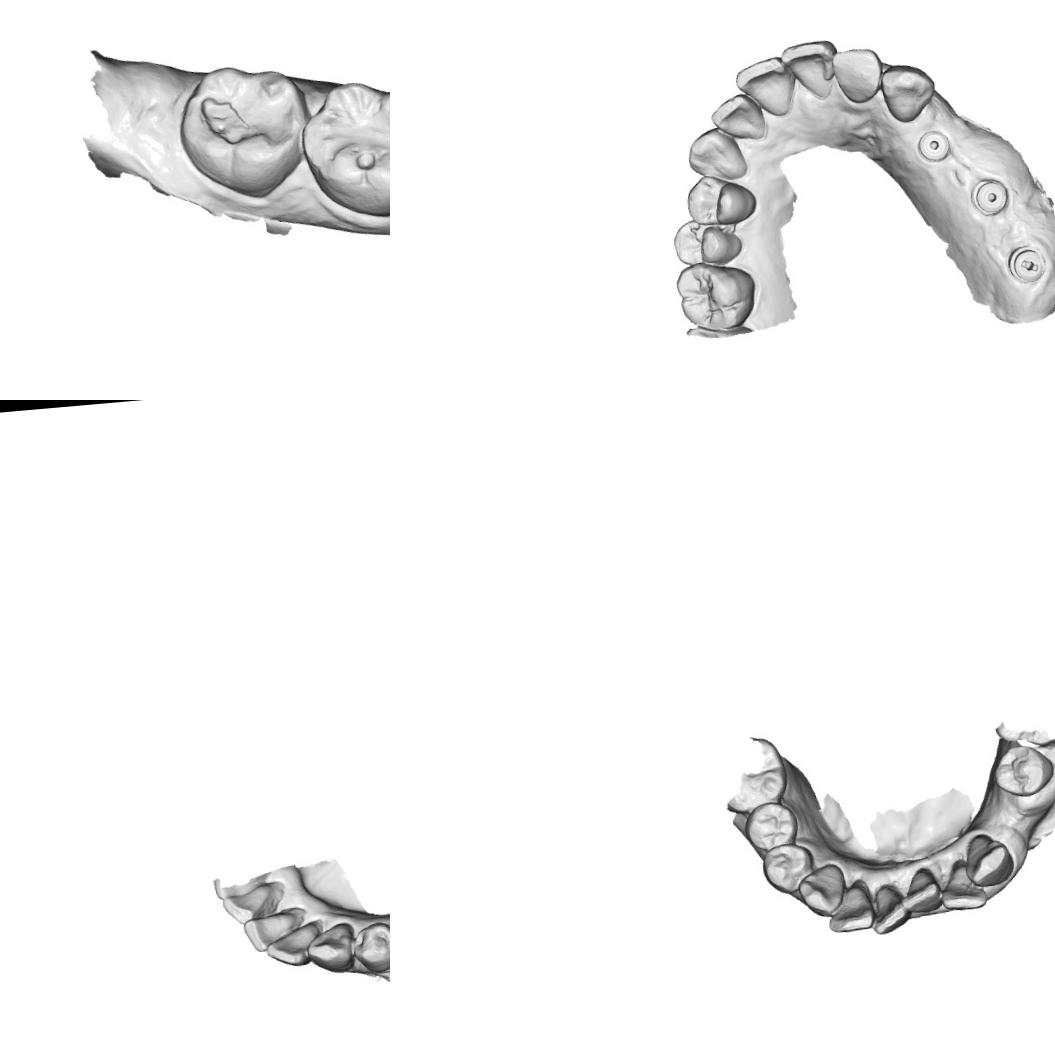canine: (684, 123, 749, 184), (878, 60, 938, 124), (304, 918, 356, 976), (963, 830, 1015, 888), (795, 862, 848, 918)
implant: (968, 175, 1012, 218), (914, 127, 952, 166)
implant_minus: (1004, 241, 1049, 287)
incisor: (732, 52, 798, 120), (778, 36, 842, 102), (830, 44, 886, 104), (707, 90, 767, 144), (262, 919, 322, 968), (936, 857, 988, 911), (824, 881, 875, 936), (240, 909, 300, 955), (220, 880, 276, 926), (899, 865, 942, 916), (866, 887, 908, 936)
molar: (169, 57, 315, 206), (294, 74, 390, 223), (672, 256, 762, 336), (717, 732, 790, 815)
premolar: (679, 170, 758, 229), (670, 214, 745, 270), (989, 742, 1055, 799), (742, 799, 800, 855), (759, 838, 815, 896), (349, 919, 390, 976)
